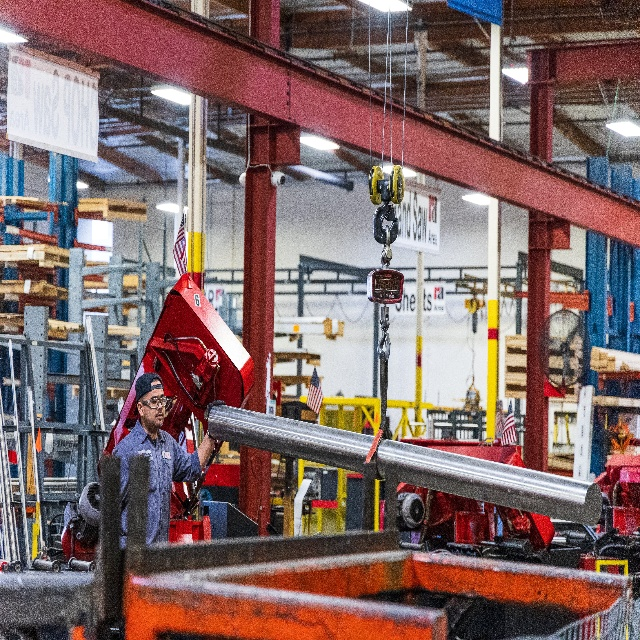Gafas: (146, 398, 166, 409)
Guantes: (207, 397, 225, 415)
